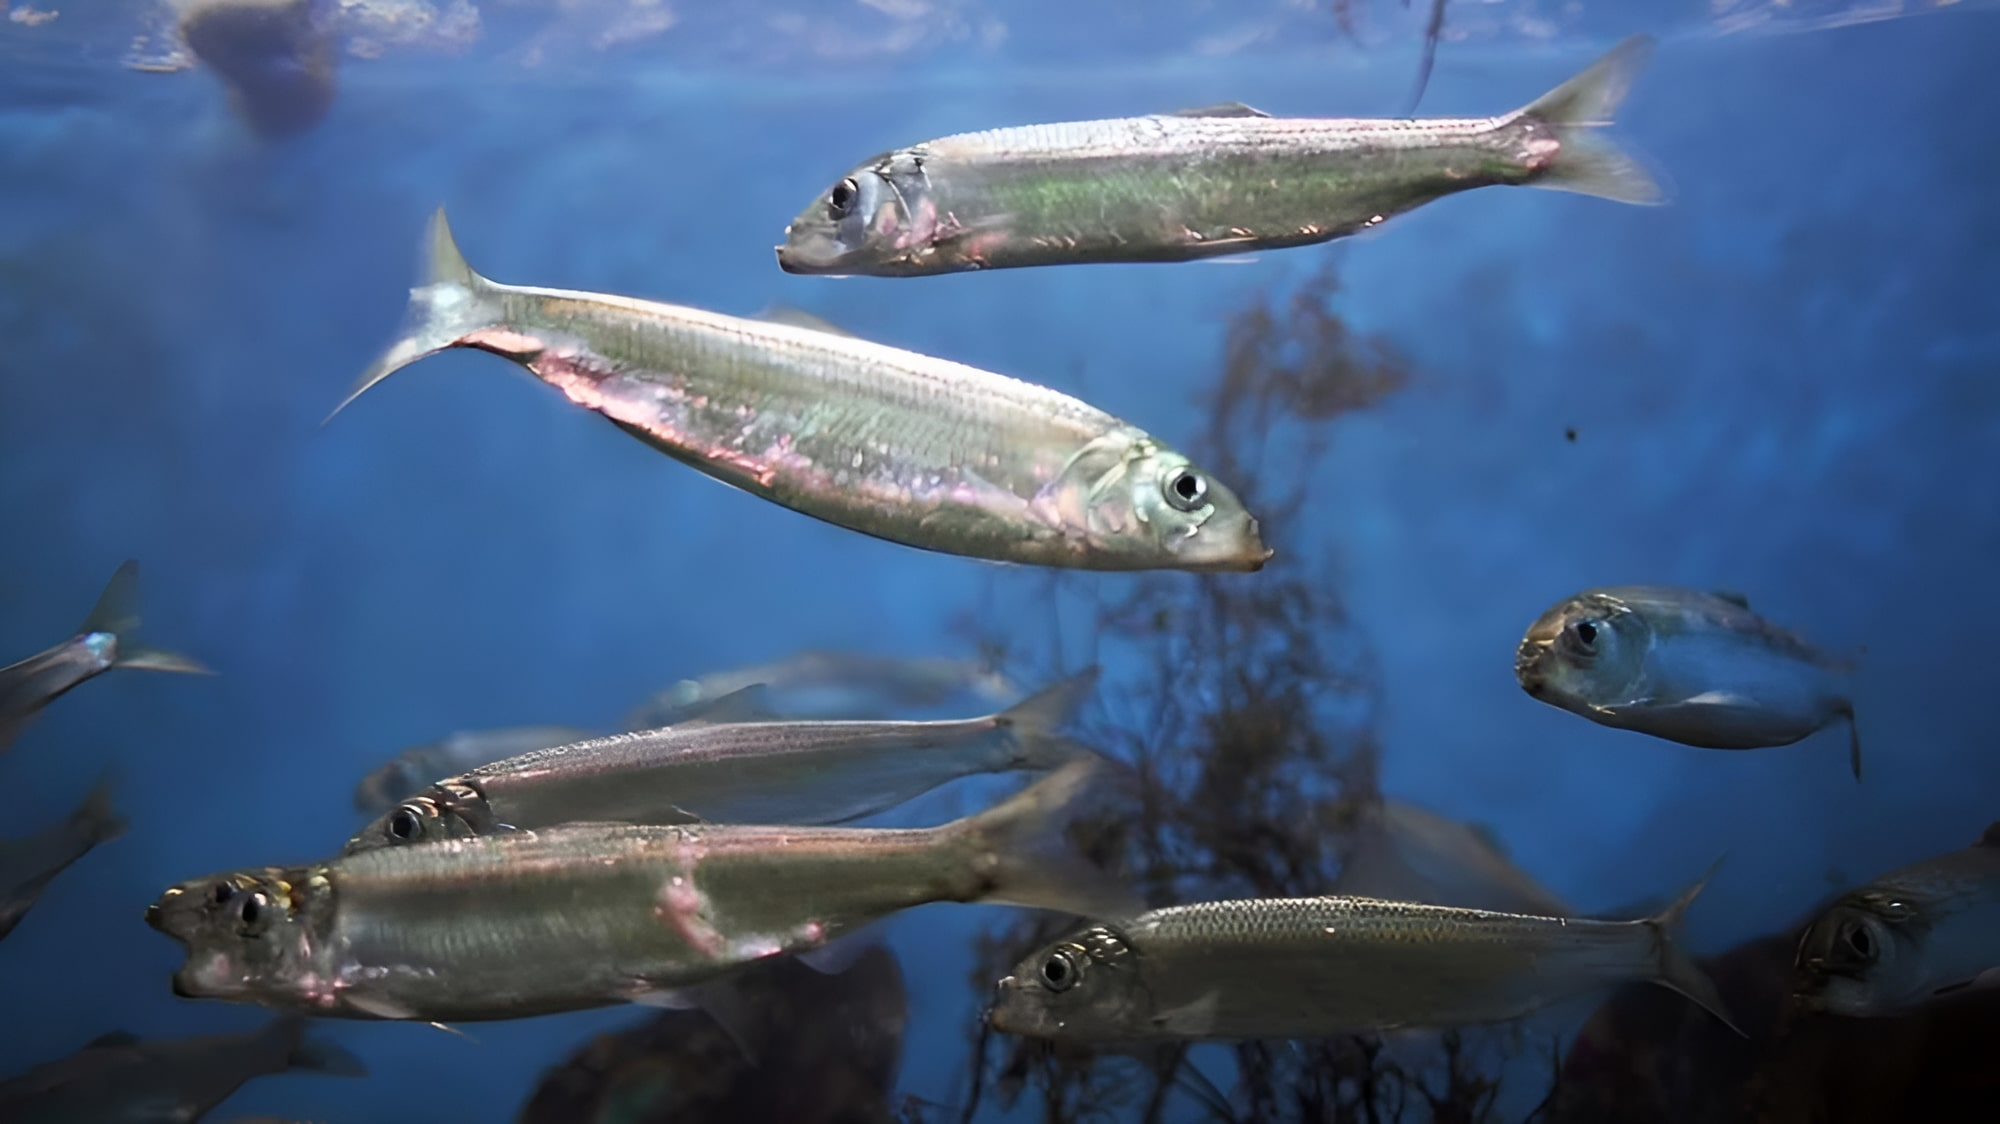Pecific herring: (326, 190, 1282, 605), (143, 758, 1143, 1029), (769, 37, 1690, 289), (981, 885, 1713, 1055), (402, 697, 1126, 851), (1515, 572, 1880, 780)
